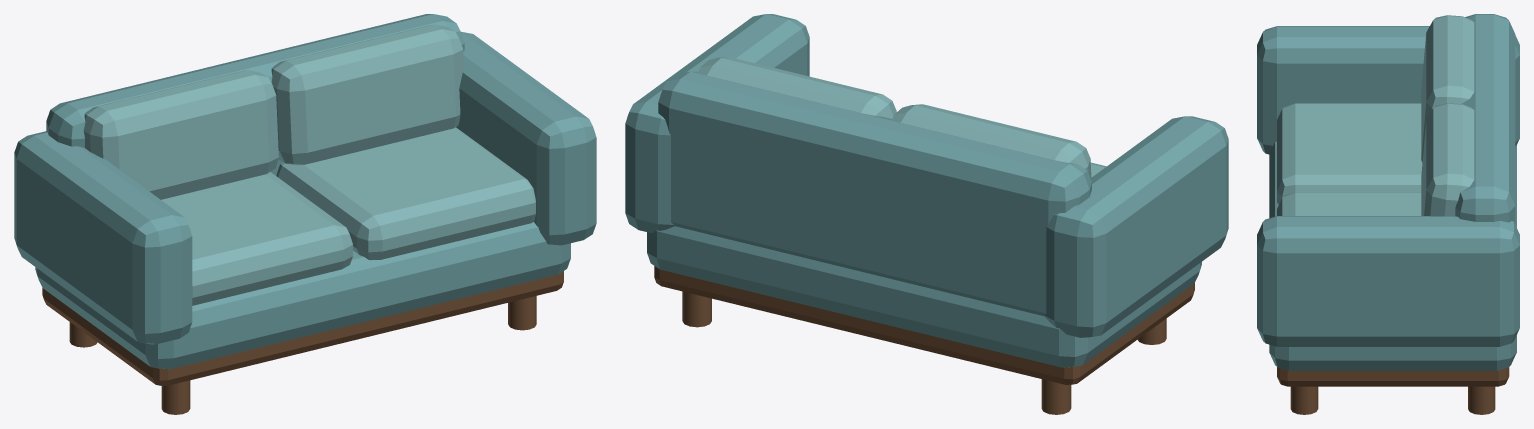
File: love_seat.glb
3 views of the same model, side by side, from view 1: azimuth 30°, elevation 25°; view 2: azimuth 150°, elevation 25°; view 3: azimuth 270°, elevation 25° (orthographic). The views are drawn at different scales.
Visible parts, largest first — view 1: Loveseat padded arm, Loveseat upholstered lower base, Loveseat separate seat cushion.001, Loveseat separate back cushion.001, Loveseat separate back cushion, Loveseat padded arm.001, Loveseat separate seat cushion, Loveseat wooden support base, Loveseat upholstered back frame, Loveseat wooden leg, Loveseat wooden leg.002; view 2: Loveseat upholstered back frame, Loveseat padded arm, Loveseat upholstered lower base, Loveseat padded arm.001, Loveseat wooden support base, Loveseat separate back cushion, Loveseat separate back cushion.001, Loveseat wooden leg.001, Loveseat wooden leg.003; view 3: Loveseat padded arm.001, Loveseat padded arm, Loveseat separate seat cushion, Loveseat upholstered back frame, Loveseat upholstered lower base, Loveseat separate back cushion.001, Loveseat separate back cushion, Loveseat wooden support base, Loveseat separate seat cushion.001, Loveseat wooden leg.002, Loveseat wooden leg.003.
Boxes of the visible parts, bbox=[...] form: Loveseat padded arm: bbox=[14, 131, 192, 344]; Loveseat upholstered lower base: bbox=[35, 222, 570, 369]; Loveseat separate seat cushion.001: bbox=[276, 127, 535, 260]; Loveseat separate back cushion.001: bbox=[271, 24, 463, 165]; Loveseat separate back cushion: bbox=[83, 70, 278, 199]; Loveseat padded arm.001: bbox=[456, 31, 596, 245]; Loveseat separate seat cushion: bbox=[161, 172, 352, 305]; Loveseat wooden support base: bbox=[42, 271, 563, 386]; Loveseat upholstered back frame: bbox=[46, 14, 464, 175]; Loveseat wooden leg: bbox=[161, 380, 190, 414]; Loveseat wooden leg.002: bbox=[508, 296, 536, 330]; Loveseat upholstered back frame: bbox=[658, 71, 1091, 316]; Loveseat padded arm: bbox=[1044, 116, 1228, 337]; Loveseat upholstered lower base: bbox=[647, 226, 1201, 367]; Loveseat padded arm.001: bbox=[625, 14, 809, 233]; Loveseat wooden support base: bbox=[654, 266, 1194, 384]; Loveseat separate back cushion: bbox=[892, 104, 1091, 178]; Loveseat separate back cushion.001: bbox=[698, 57, 896, 118]; Loveseat wooden leg.001: bbox=[1041, 379, 1071, 414]; Loveseat wooden leg.003: bbox=[682, 291, 711, 327]; Loveseat padded arm.001: bbox=[1257, 216, 1519, 346]; Loveseat padded arm: bbox=[1257, 26, 1519, 154]; Loveseat separate seat cushion: bbox=[1277, 103, 1422, 205]; Loveseat upholstered back frame: bbox=[1455, 14, 1515, 223]; Loveseat upholstered lower base: bbox=[1269, 141, 1516, 370]; Loveseat separate back cushion.001: bbox=[1421, 103, 1474, 216]; Loveseat separate back cushion: bbox=[1421, 15, 1474, 162]; Loveseat wooden support base: bbox=[1277, 367, 1509, 386]; Loveseat separate seat cushion.001: bbox=[1277, 192, 1421, 215]; Loveseat wooden leg.002: bbox=[1290, 386, 1318, 414]; Loveseat wooden leg.003: bbox=[1468, 386, 1495, 414].
Size of the model in its own units: 1.68 by 0.8415 by 0.86.
